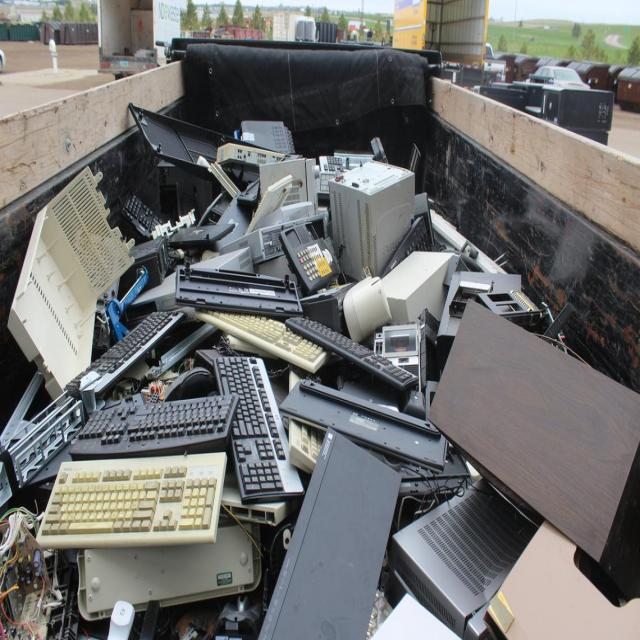hazard: (39, 94, 588, 605)
